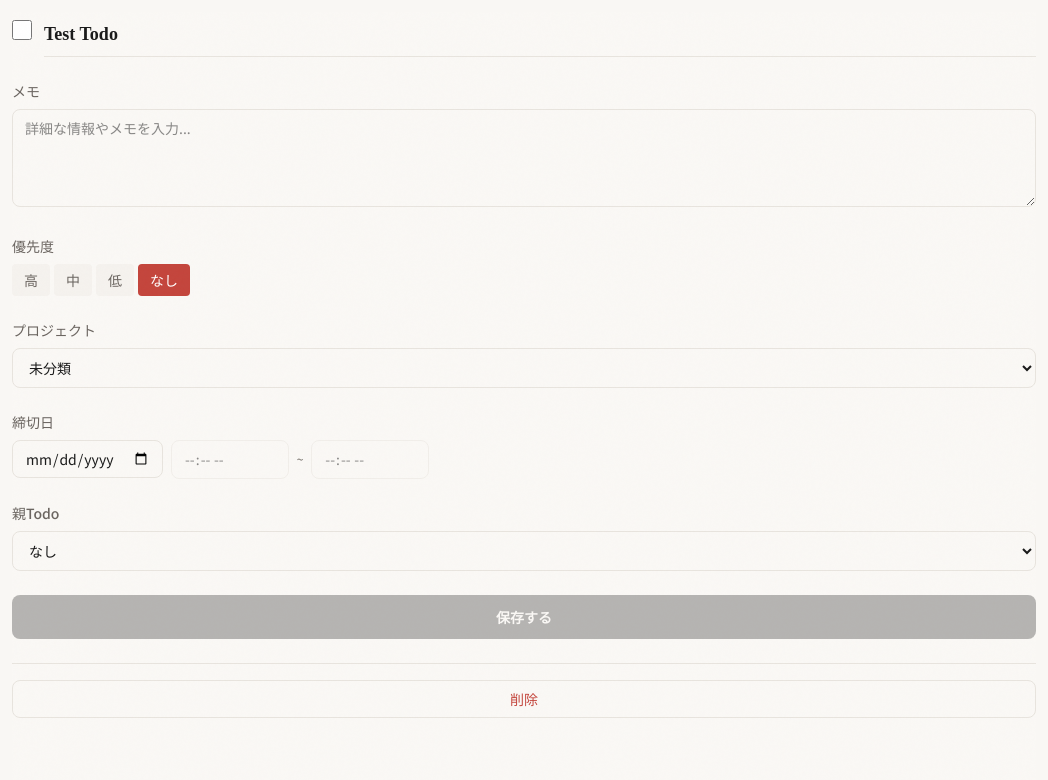
Test: TodoDetailForm › delete › should cancel delete when cancel clicked
What coordinates should you click on to do the following:
click the button "削除"
I would click on:
 (524, 699)
Its box is [12,680,1036,718].
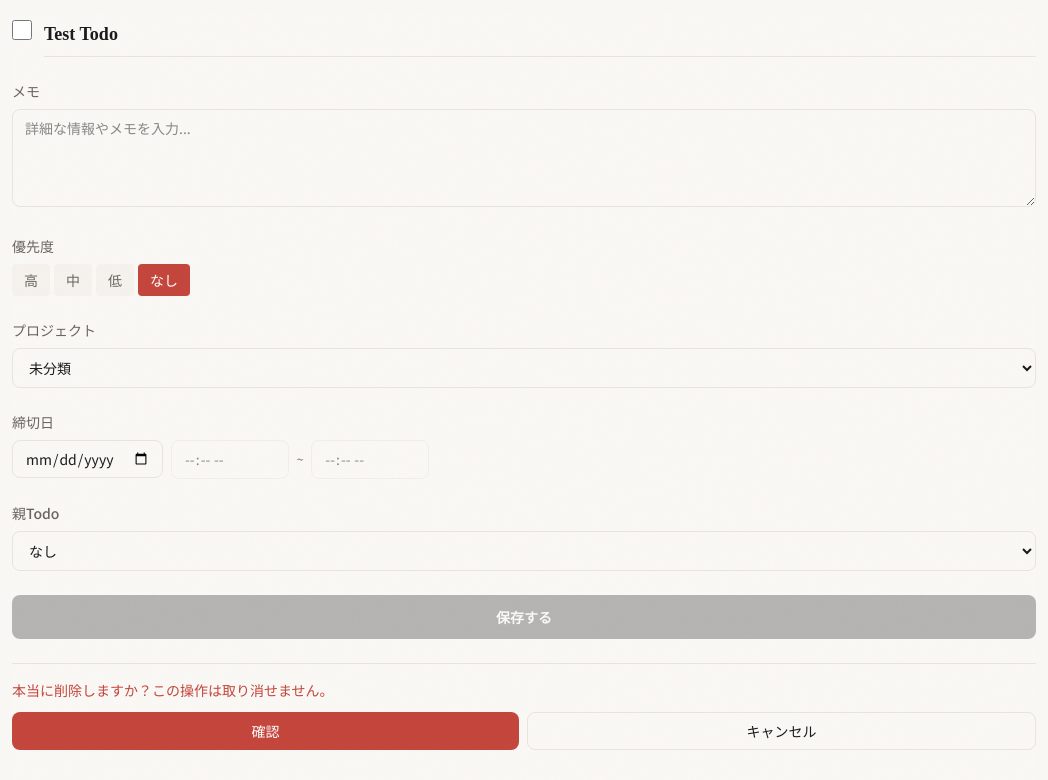
What coordinates should you click on to do the following:
click the button "キャンセル"
I would click on:
 (782, 731)
Its box is [527,712,1036,750].
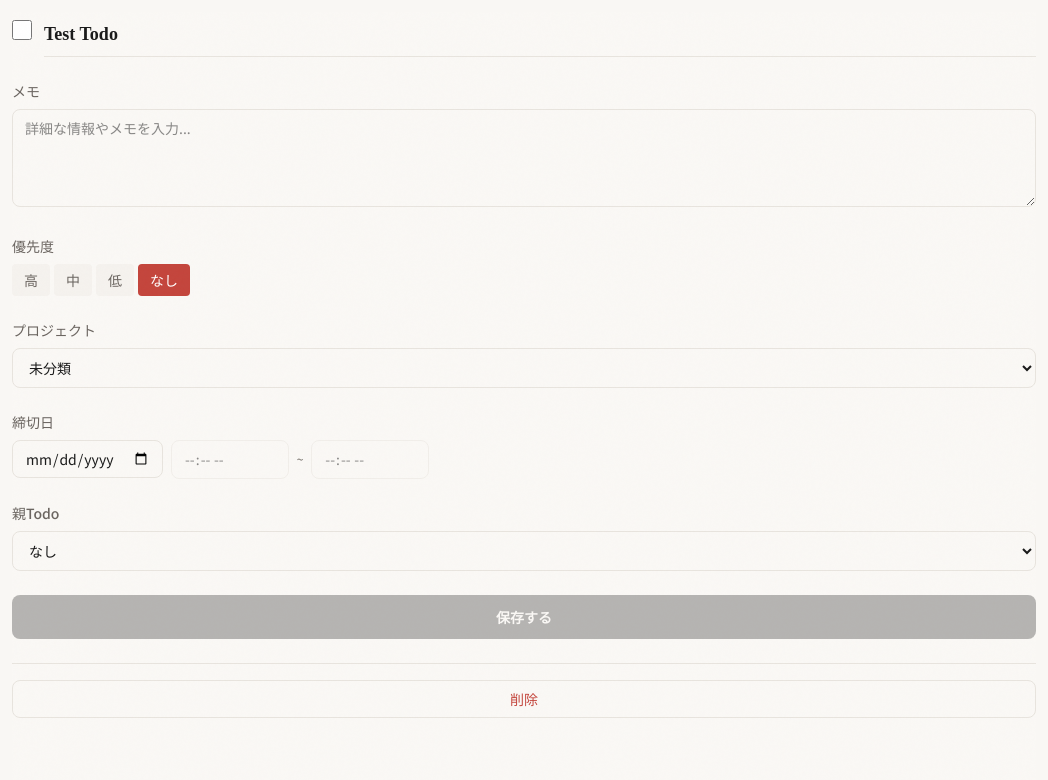
Now the text "本当に削除しますか" is gone
